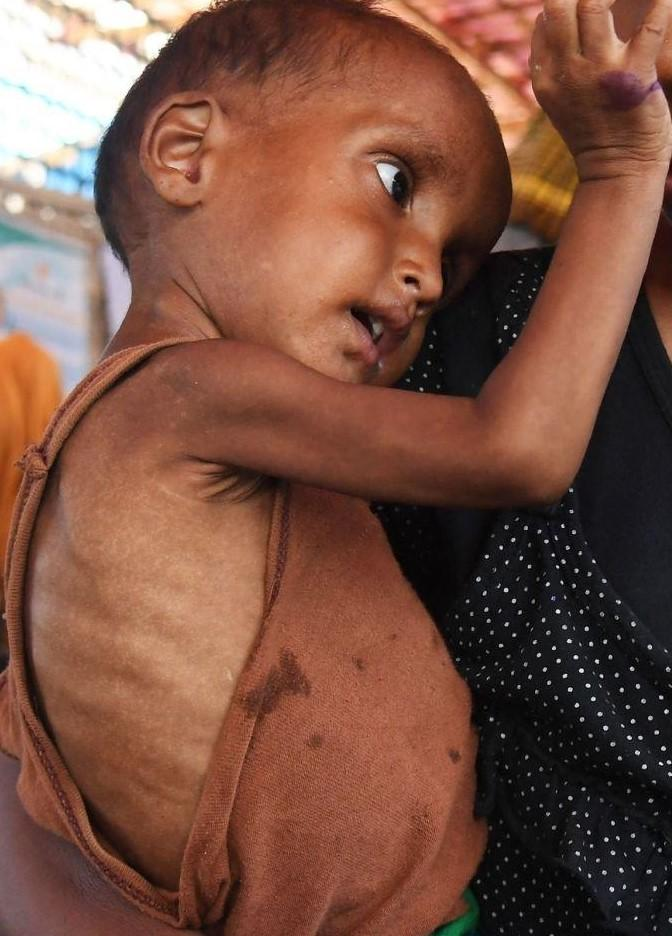Stunting: (68, 0, 500, 438)
